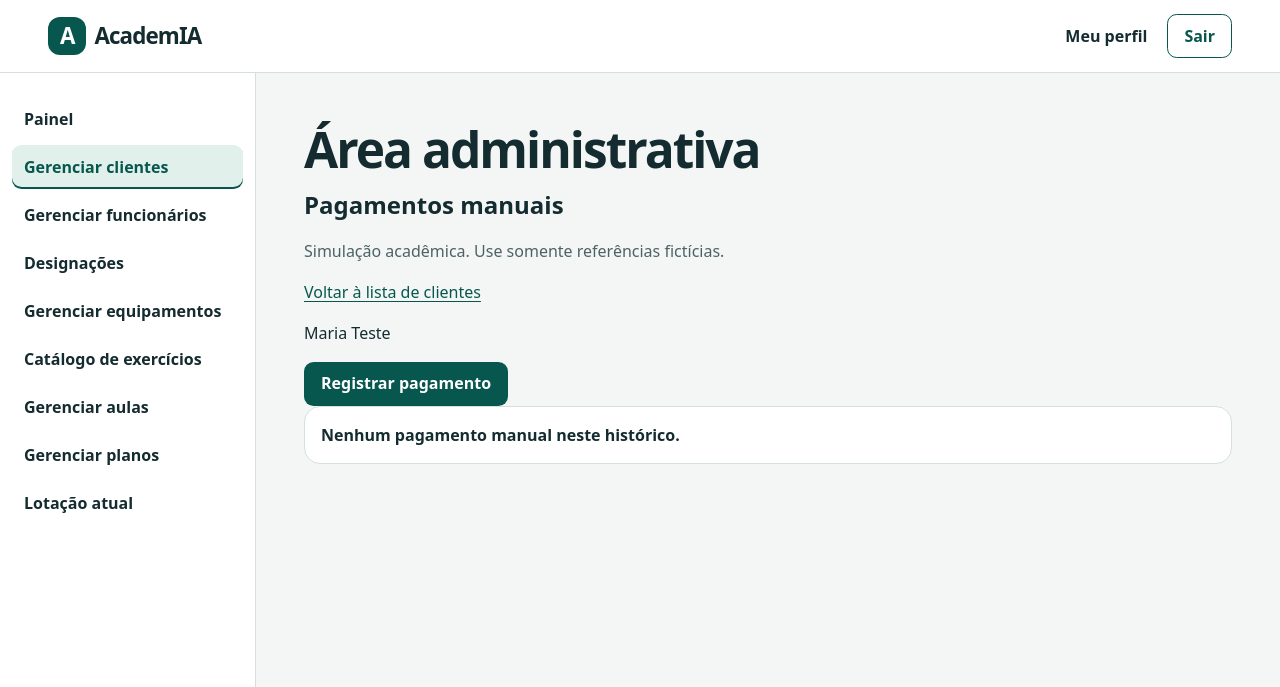
registra valor em reais, mantém a chave durante erro e exibe a confirmação no histórico
This screenshot has width=1280, height=687.
Expected: the text "Nenhum pagamento manual neste histórico." is shown, [321,424,680,446]
Click the button "Registrar pagamento" at (406, 384), box [304,362,508,406]
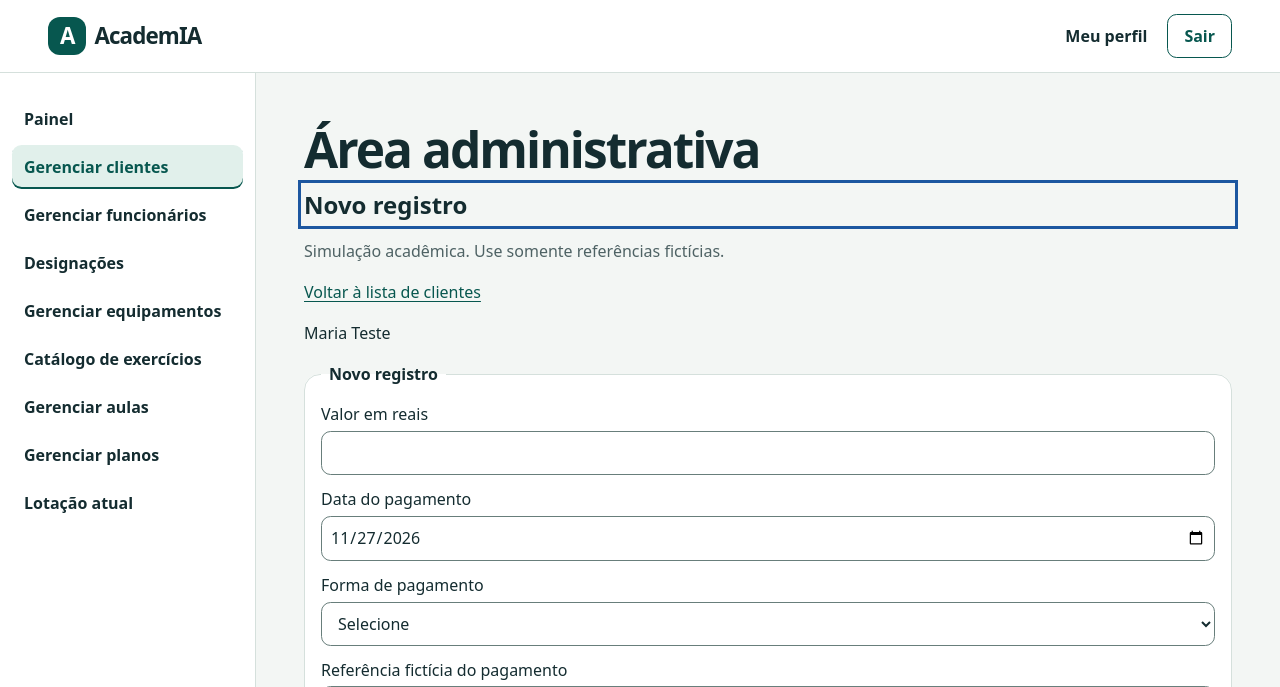
Type "149,90" into the field labelled "Valor em reais" at (768, 453), box [321,431,1215,475]
Type "2026-11-23" into the date field labelled "Data do pagamento" at (768, 538), box [321,516,1215,561]
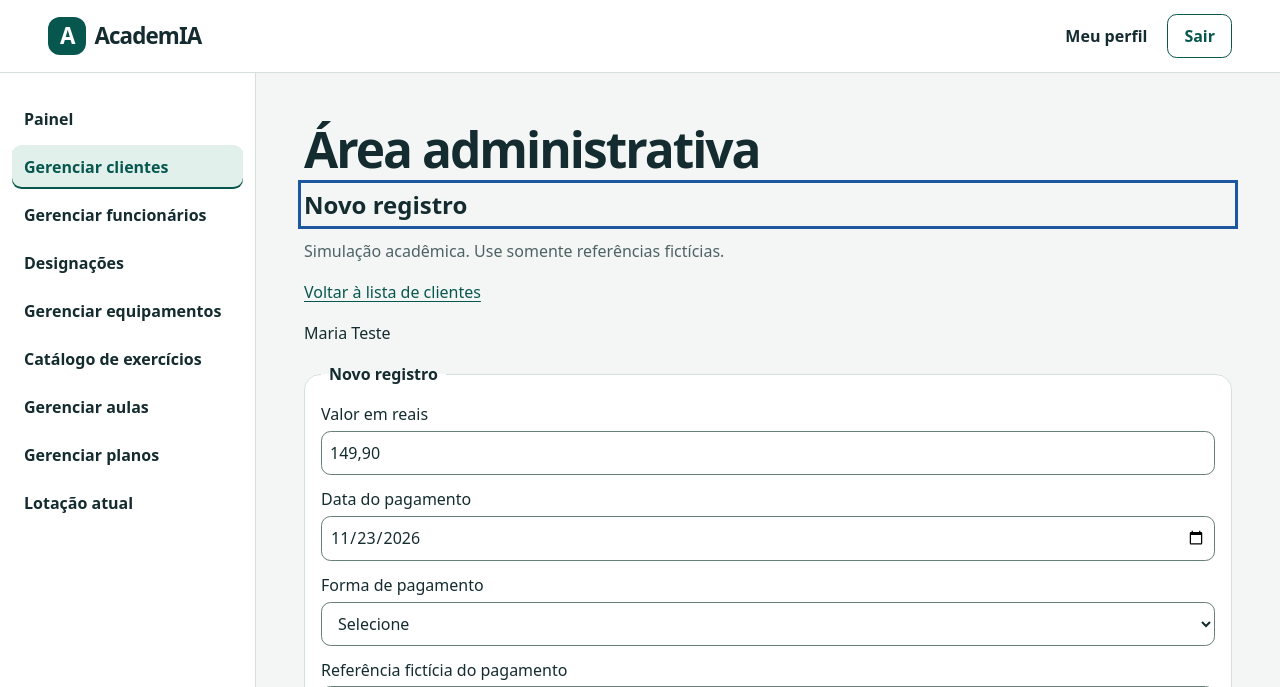
Select "Pix" in the dropdown labelled "Forma de pagamento" at (768, 624), box [321,602,1215,646]
(page scrolled)
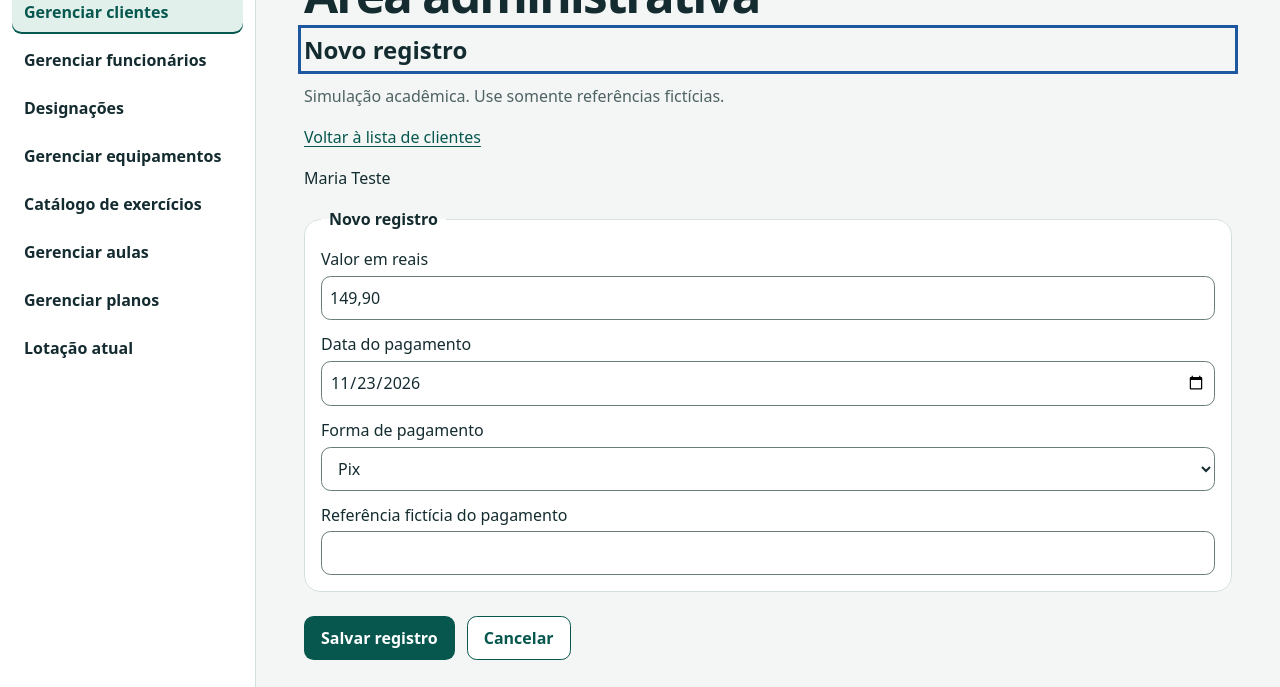
Type "REF-TESTE" into the field labelled "Referência fictícia do pagamento" at (768, 553), box [321,531,1215,575]
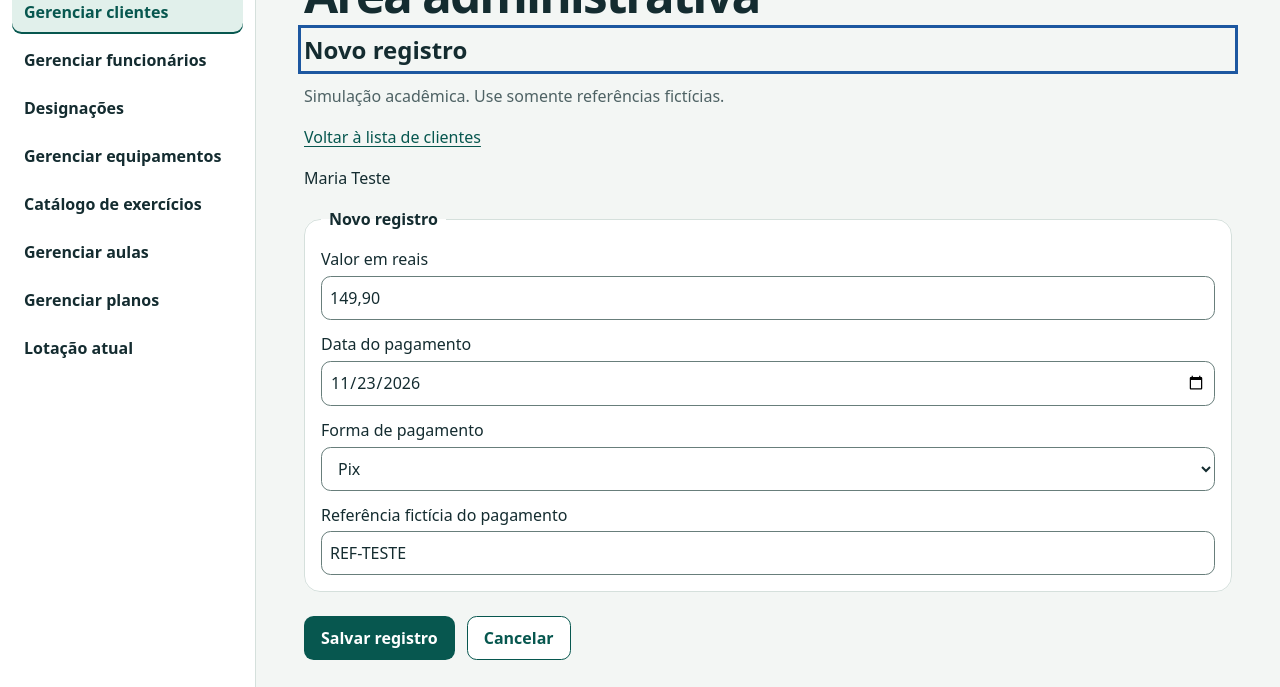
Click the button "Salvar registro" at (379, 638), box [304,616,455,660]
(page scrolled)
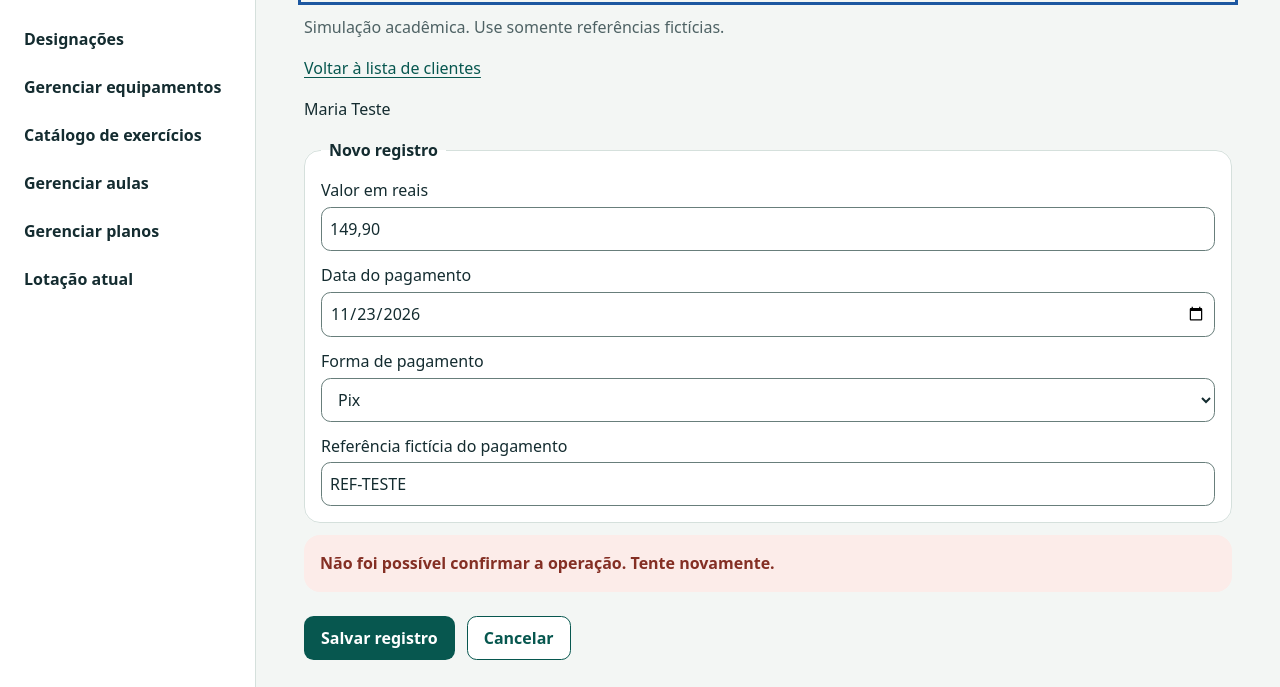
Now the text "Não foi possível confirmar a operação. Tente novamente." is shown, box [320,552,775,574]
Click the button "Salvar registro" at (379, 638), box [304,616,455,660]
(page scrolled)
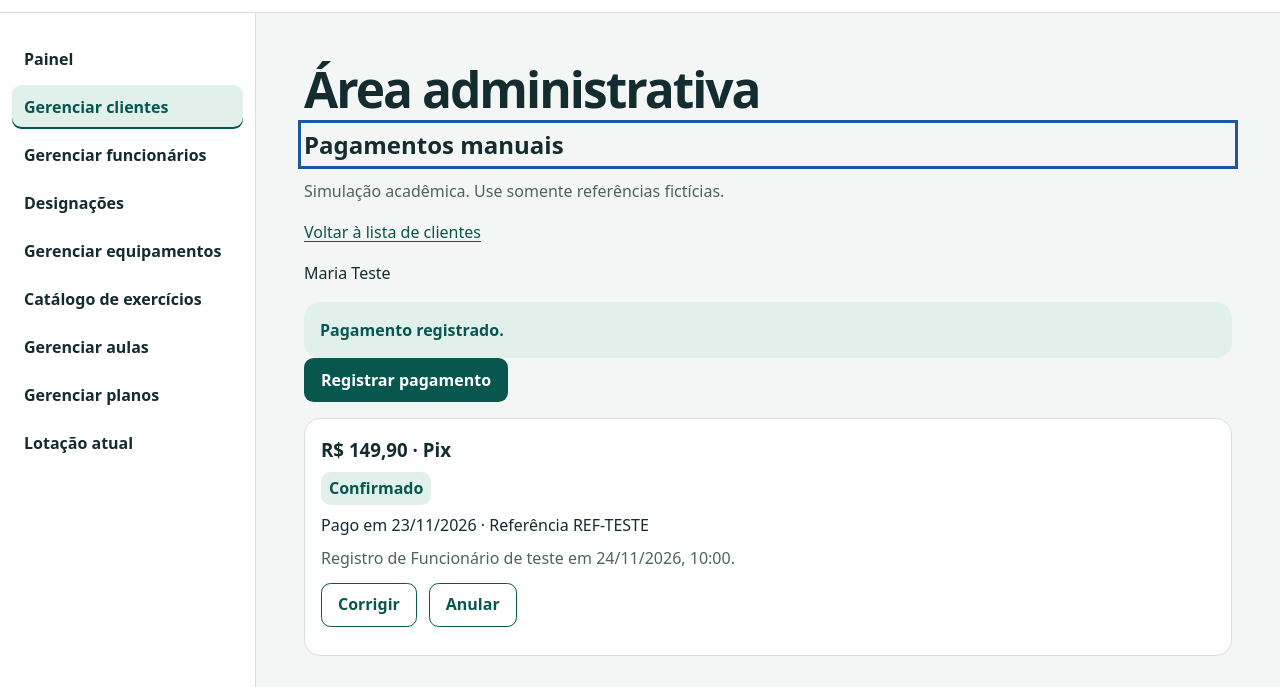
Now the text "Pagamento registrado." is shown, box [320,319,504,341]
Now the text "Confirmado" is shown, box [321,472,431,505]
